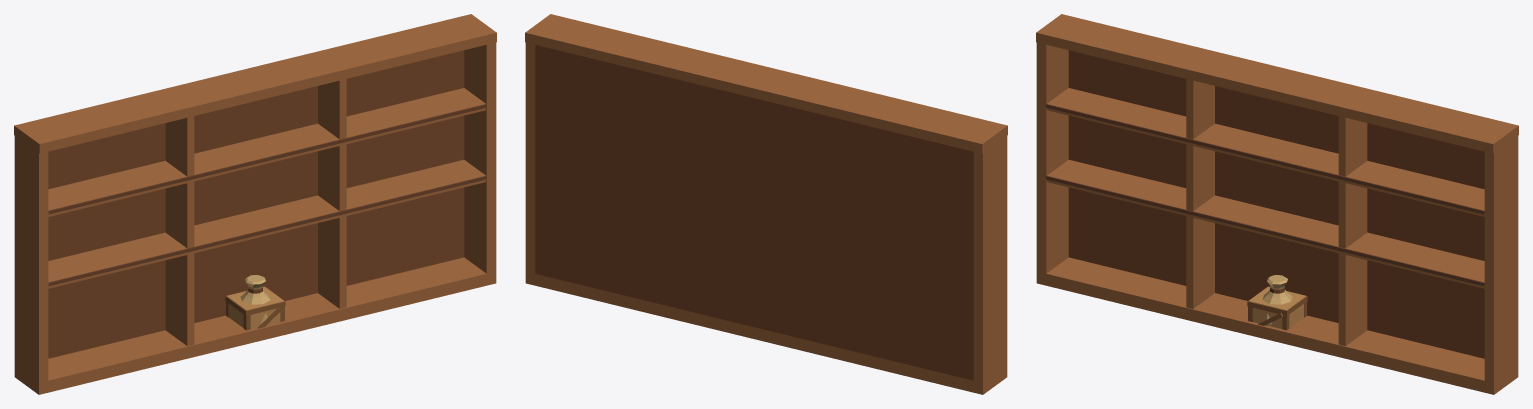
The model's file is shared_craftshelf.fbx.
3 views of the same model, side by side, from view 1: azimuth 30°, elevation 25°; view 2: azimuth 150°, elevation 25°; view 3: azimuth 330°, elevation 25° (orthographic).
Visible parts, largest first — view 1: CraftShelf.Wood, CraftShelf.Back, CraftShelf.Trim, ShelfCrate.Body, ShelfCrate.Trim, ShelfSack.Body; view 2: CraftShelf.Back, CraftShelf.Wood; view 3: CraftShelf.Wood, CraftShelf.Back, CraftShelf.Trim, ShelfCrate.Body, ShelfCrate.Trim, ShelfSack.Body.
Part boxes in pixels (<box>): CraftShelf.Wood: <box>14,14,496,394</box>; CraftShelf.Back: <box>48,50,464,358</box>; CraftShelf.Trim: <box>48,104,486,286</box>; ShelfCrate.Body: <box>227,286,284,328</box>; ShelfCrate.Trim: <box>225,287,285,330</box>; ShelfSack.Body: <box>240,275,270,325</box>; CraftShelf.Back: <box>535,45,973,380</box>; CraftShelf.Wood: <box>525,14,1007,394</box>; CraftShelf.Wood: <box>1036,14,1518,394</box>; CraftShelf.Back: <box>1068,50,1484,358</box>; CraftShelf.Trim: <box>1046,104,1484,286</box>; ShelfCrate.Body: <box>1248,286,1305,328</box>; ShelfCrate.Trim: <box>1247,287,1307,330</box>; ShelfSack.Body: <box>1262,275,1292,326</box>.
Bounding box in the file's own units: 12 × 6.3 × 1.16.
